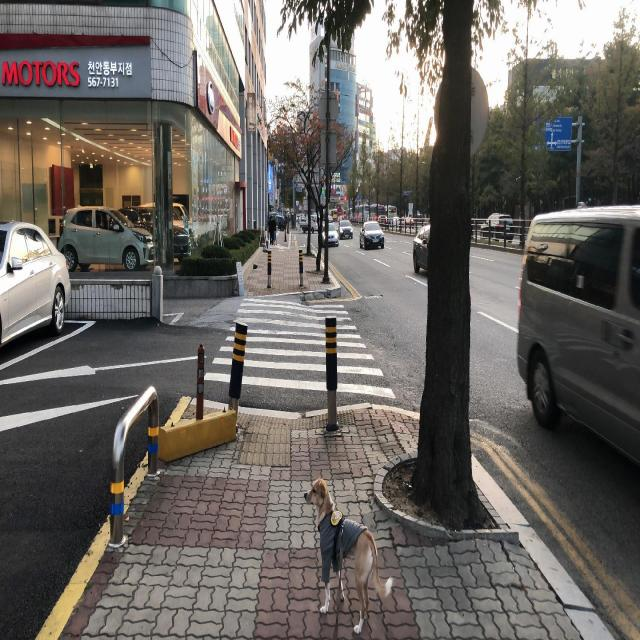횡단보도: (202, 295, 397, 401)
